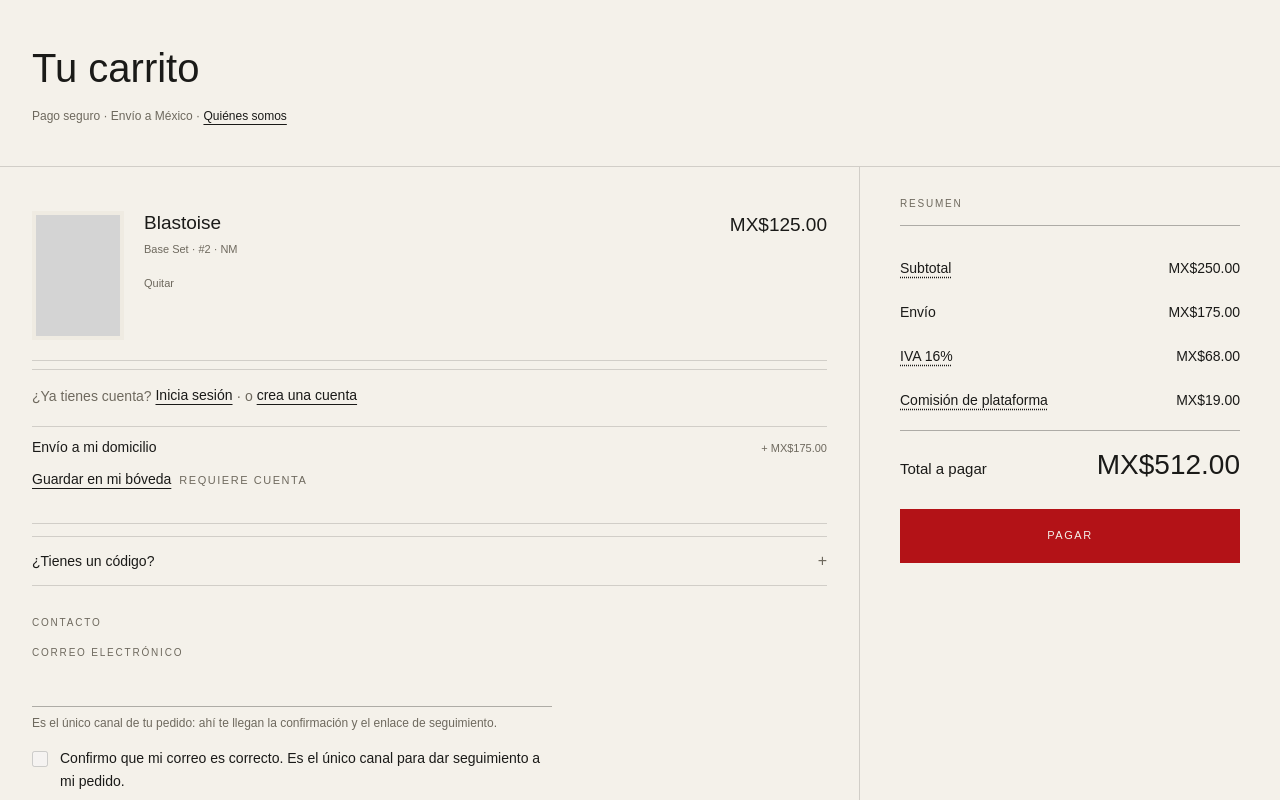
Test case: GuestCheckoutView · resumen reactivo al destino (v1.21.4-dual-breakdown, N-12) › alternar destino es INSTANTÁNEO y no dispara un nuevo fetch (ambos desgloses en la misma respuesta)
The width and height of the screenshot is (1280, 800).
Expected: the text "MX$512.00" is shown, [1097,451,1240,479]
// Envío → bóveda: el resumen cambia sin volver a llamar a la API.
Click the button "Guardar en mi bóveda REQUIERE CUENTA": [102, 479] box [32,469,827,513]
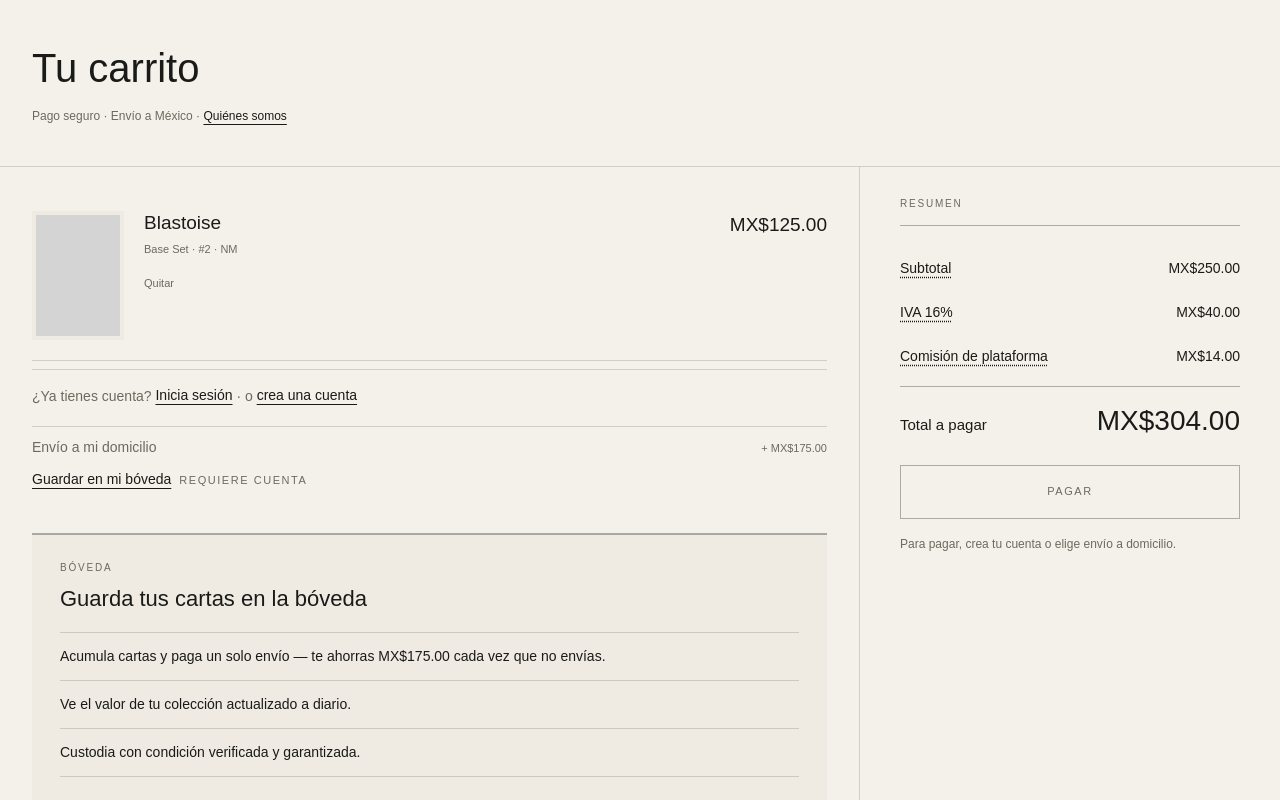
Expected: the text "MX$304.00" is shown, [1097,407,1240,435]
// Bóveda → envío (el mismo botón pliega el upsell): vuelve al desglose con envío, también sin refetch.
Click the button "Guardar en mi bóveda REQUIERE CUENTA": [102, 479] box [32,469,827,513]
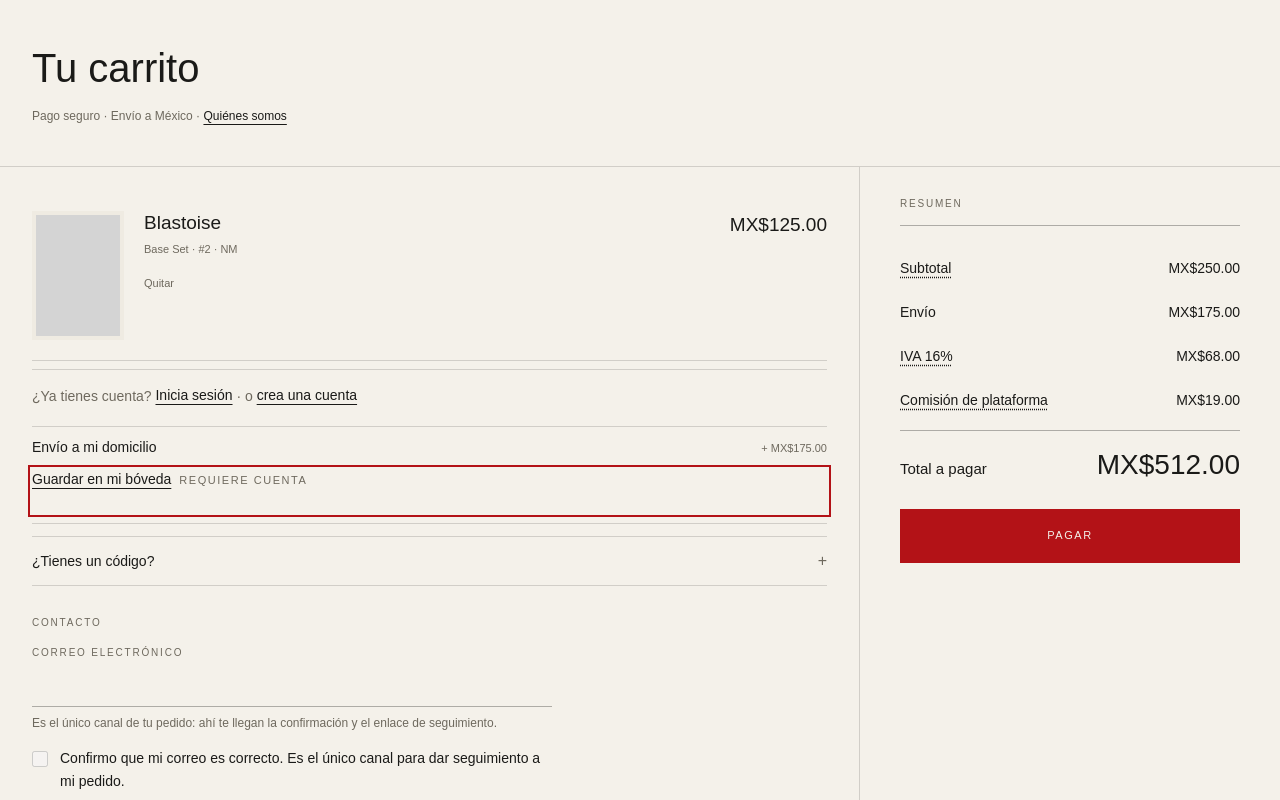
Expected: the text "MX$512.00" is shown, [1097,451,1240,479]
Expected: the text "Envío" is shown, [900,302,936,322]
